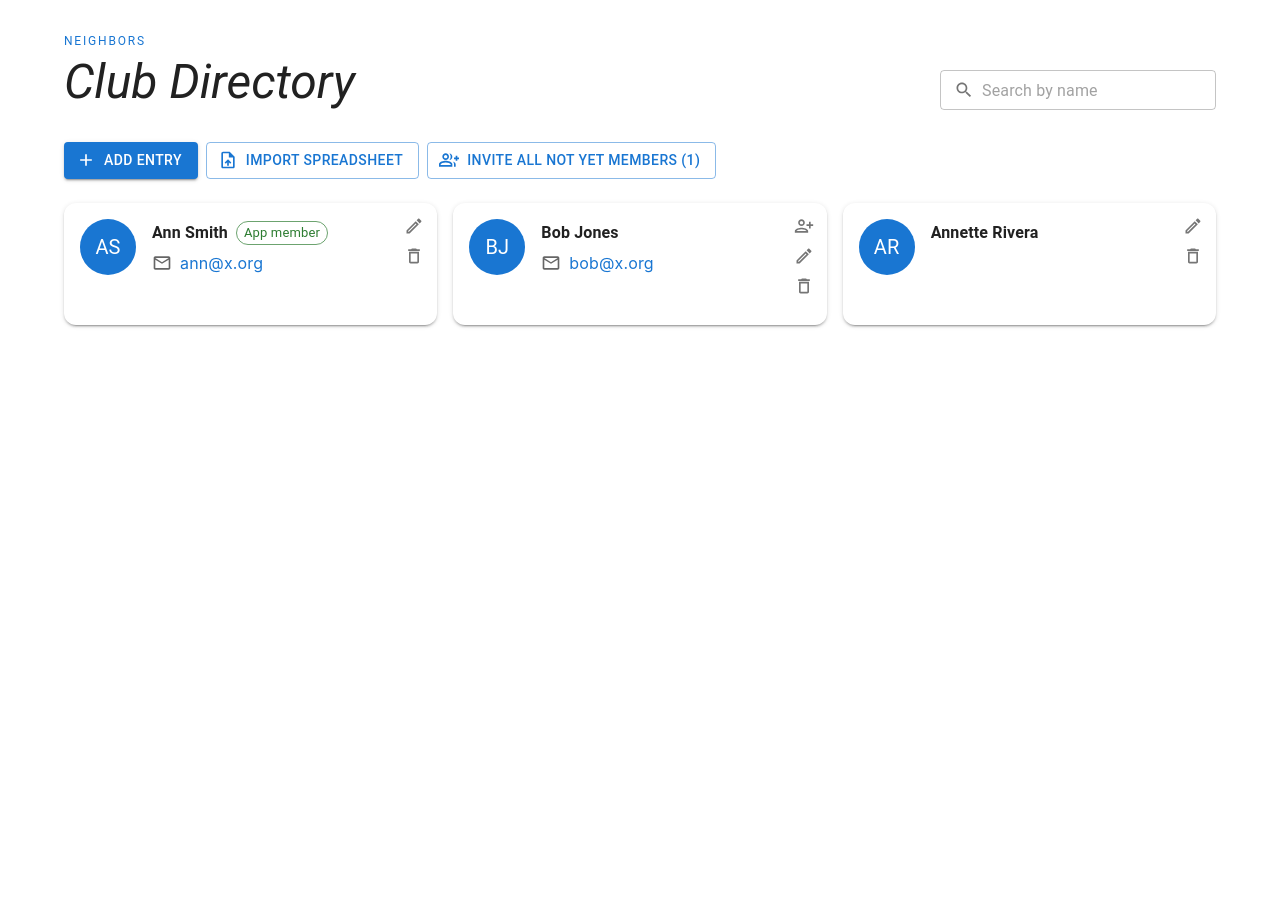
Scenario: Directory page admin controls › bulk-invites the invitable entries and reports the result
Expected: the heading "Bob Jones" is shown, [541,218,619,246]
Click the button "Invite all not yet members (1)": (572, 160) [427,142,716,178]
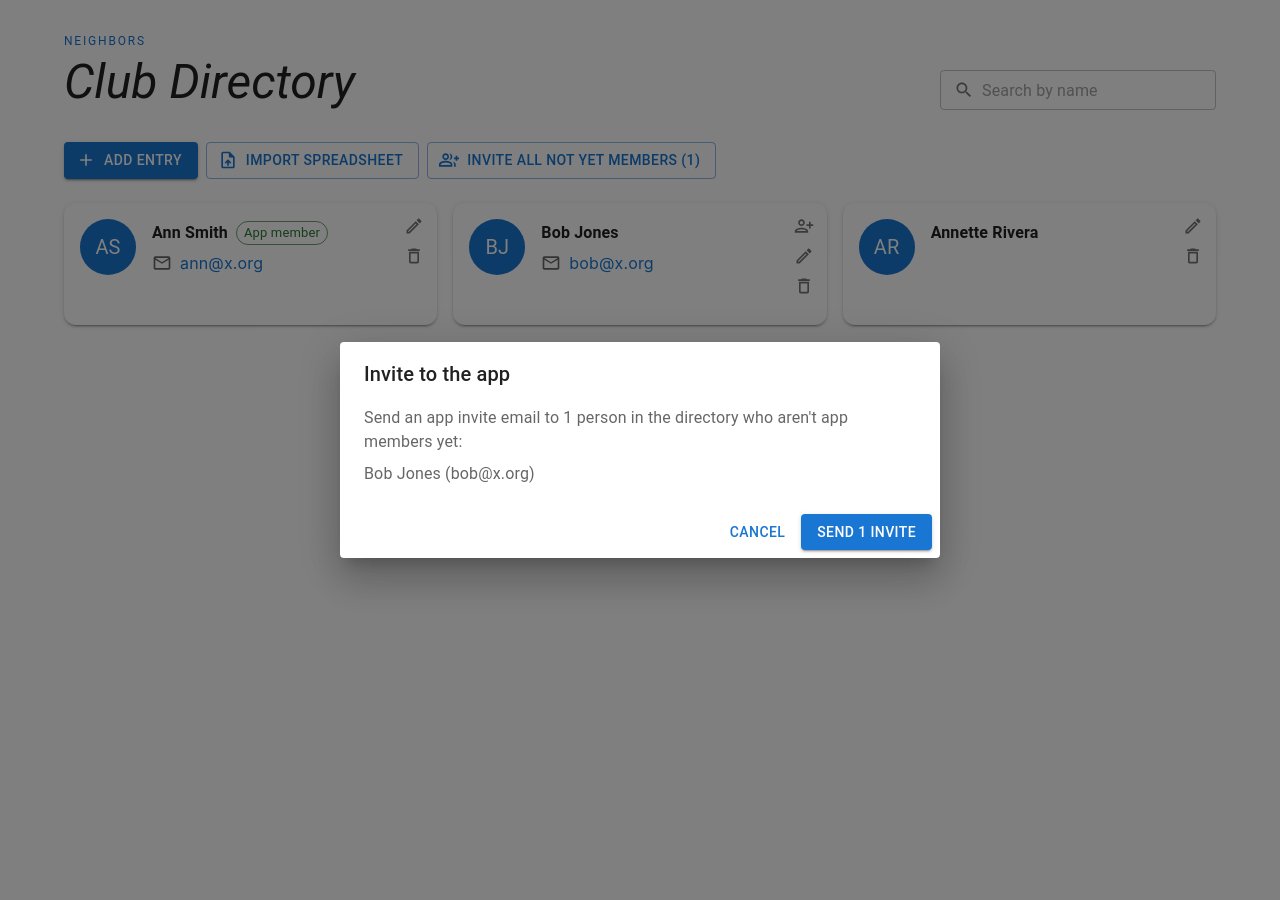
Now the list item "Bob Jones (bob@x.org)" is shown, box [364,464,535,483]
Click the button "Send 1 invite": (867, 532) [801,514,932,550]
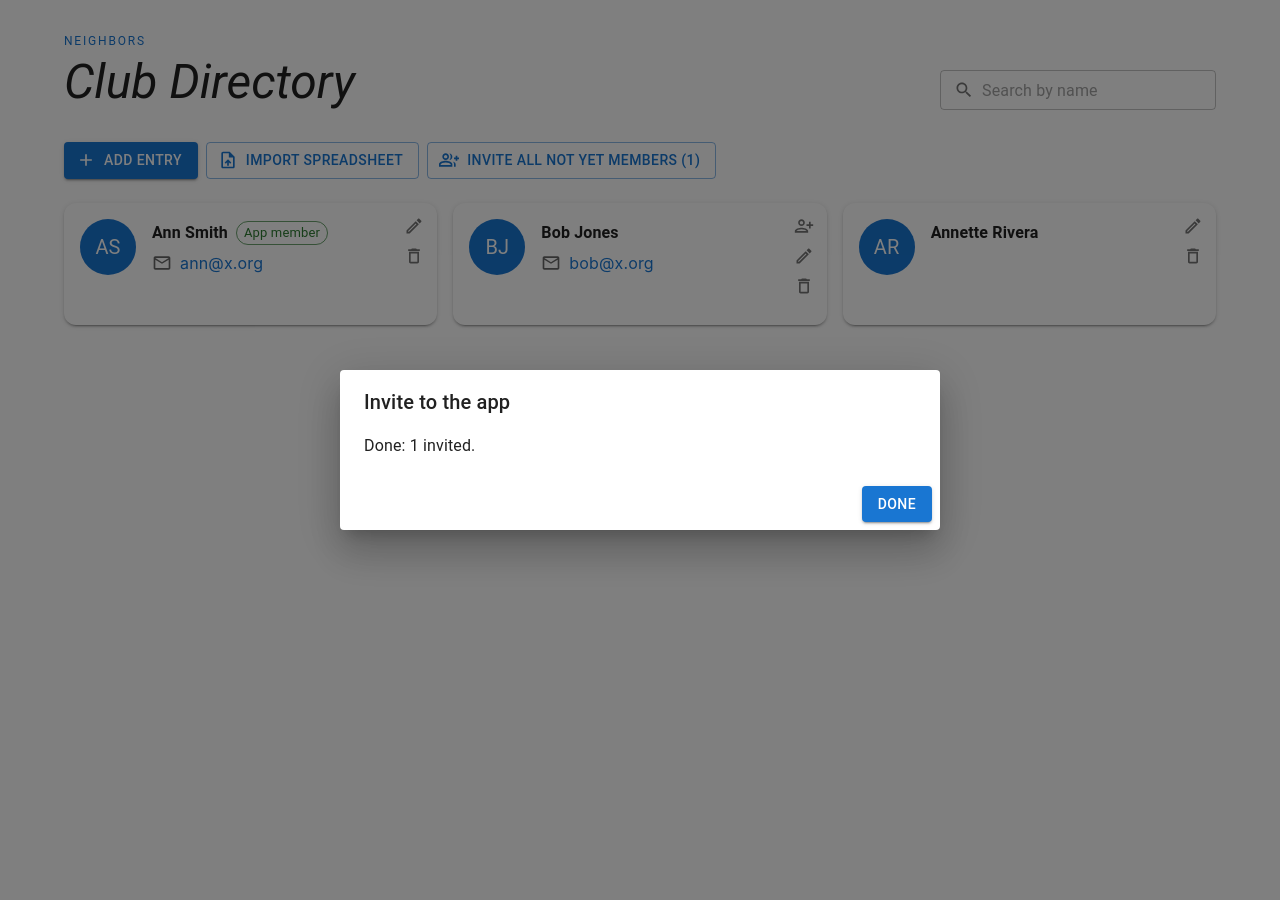
Now the text "Done: 1 invited." is shown, box [364,434,476,458]
